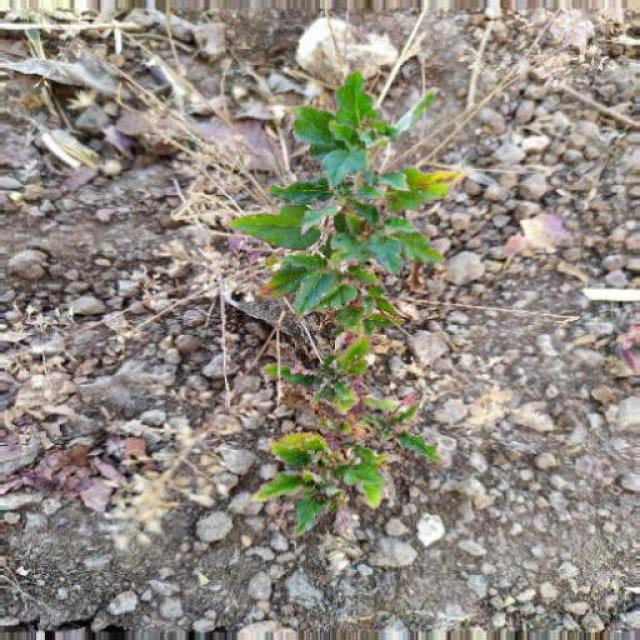weed: (202, 72, 478, 538)
